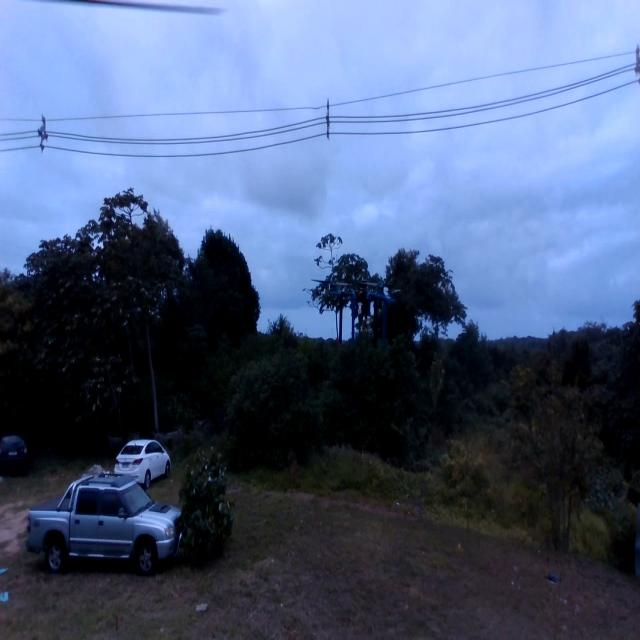-uav-: (322, 273, 400, 357)
